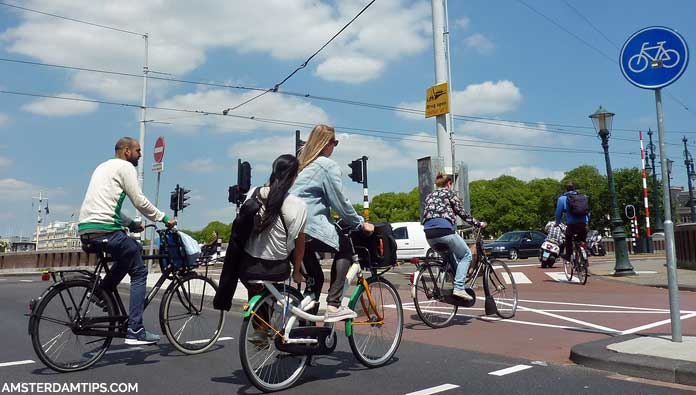commuter: (31, 137, 228, 374), (238, 121, 403, 393), (407, 169, 521, 332), (552, 181, 594, 286)
